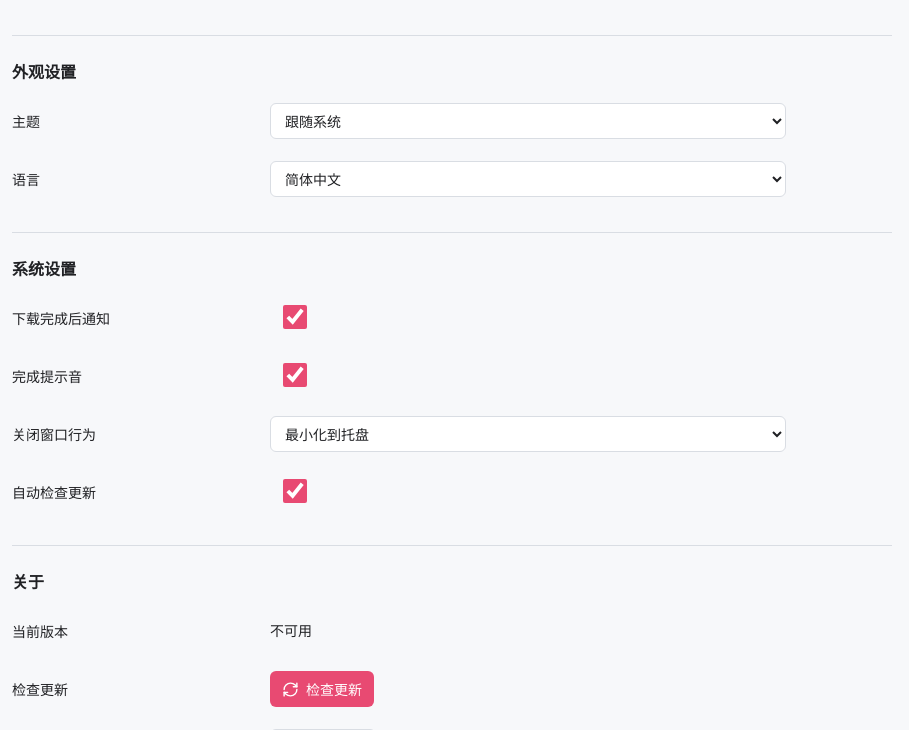
SettingsPage › saves the completion sound preference and disables it when notifications are off
(page scrolled)
Click the switch with id "setting-completion-sound". click: (295, 375)
box: [274,363,316,387]
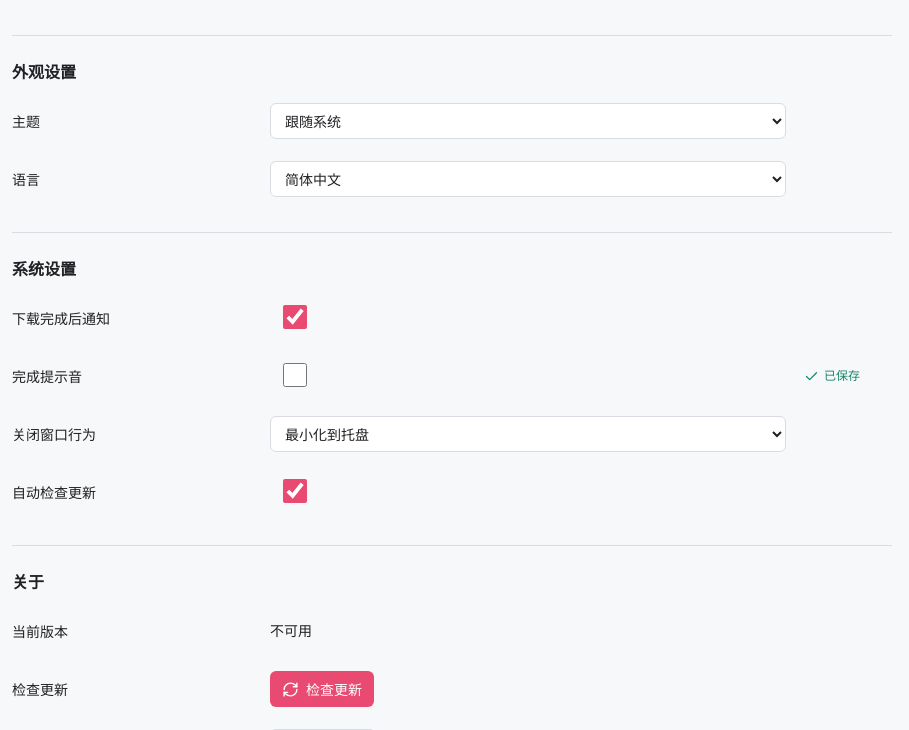
Click the switch with id "setting-notify". click: (295, 317)
box: [274,305,316,329]
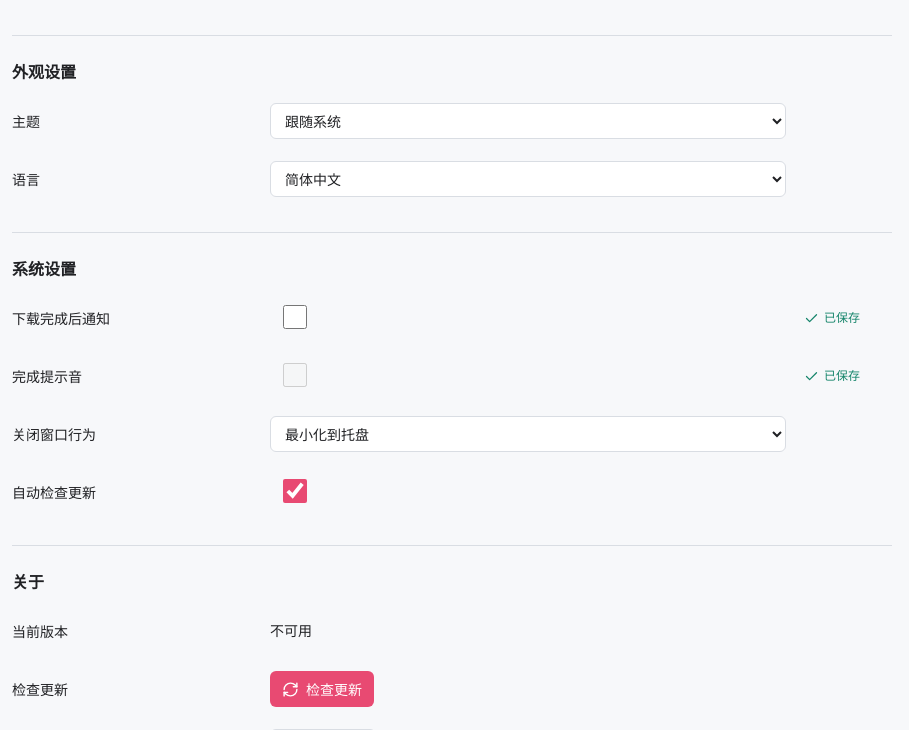
expect the switch with id "setting-completion-sound" is disabled: met, box [274,363,316,387]
